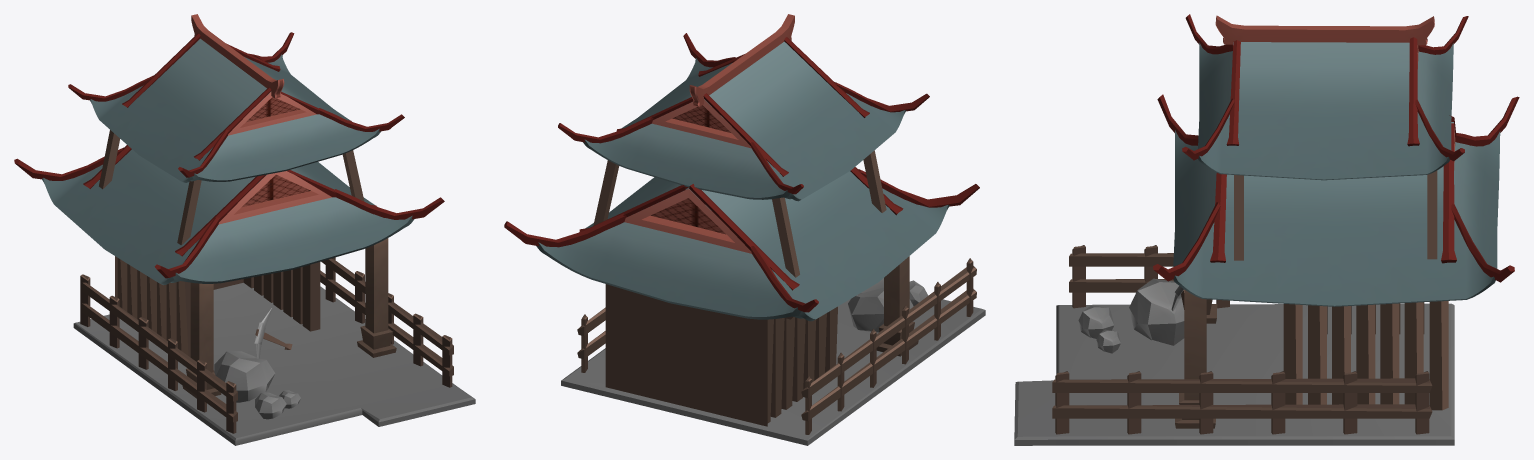
The model's file is mine_3lvl.fbx.
3 renders of one model, left to right at view 1: azimuth 30°, elevation 25°; view 2: azimuth 150°, elevation 25°; view 3: azimuth 270°, elevation 25°, orthographic. The views are drawn at different scales.
Parts seen in each view (by area): view 1: mine_3lvl; view 2: mine_3lvl; view 3: mine_3lvl.
Boxes of the visible parts, bbox=[...] form: mine_3lvl: bbox=[14, 14, 475, 445]; mine_3lvl: bbox=[504, 14, 985, 445]; mine_3lvl: bbox=[1014, 14, 1519, 445].
Size of the model in its own units: 5.15 by 4.97 by 6.31.
1 material, 1 textured.
